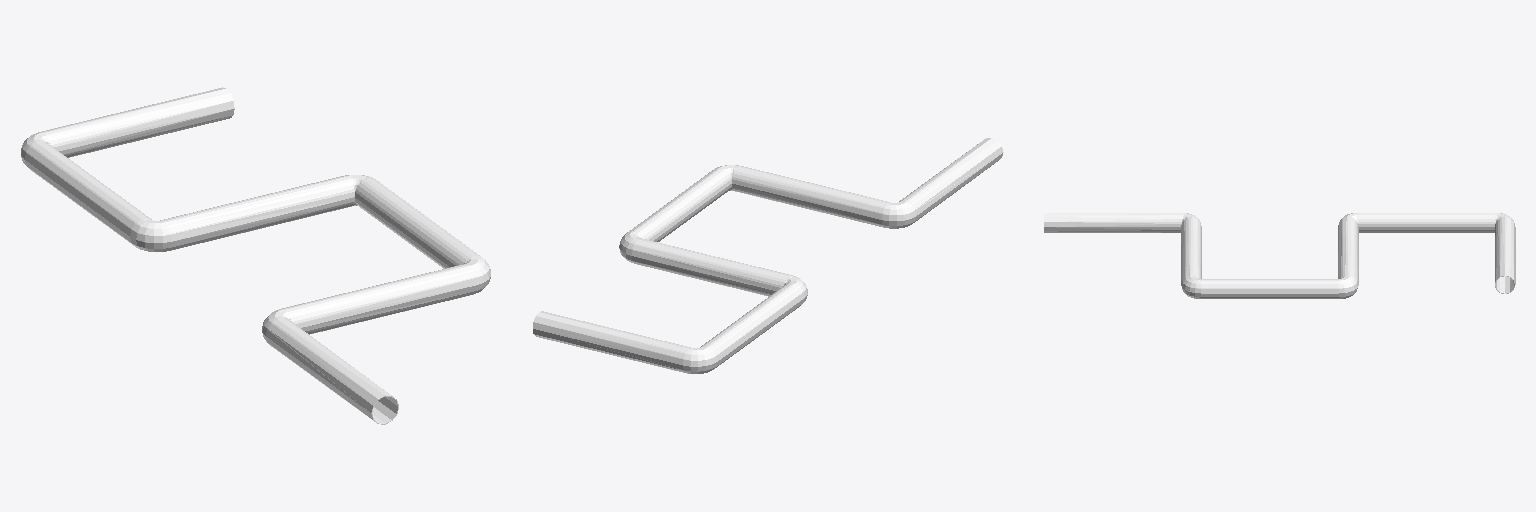
The robot description file, URDF, robot "simple_pipe_100":
<?xml version="1.0" encoding="utf-8"?>
<!-- This URDF was automatically created by SolidWorks to URDF Exporter! Originally created by [author] ([email redacted]) 
     Commit Version: 1.6.0-4-g7f85cfe  Build Version: 1.6.7995.38578
     For more information, please see http://wiki.ros.org/sw_urdf_exporter -->
<robot
  name="simple_pipe_100">
  <link
    name="pipe_link">
    <inertial>
      <origin
        xyz="0.332214887792576 -2.71581548361155E-08 -0.641"
        rpy="0 0 0" />
      <mass
        value="5.79569422015422" />
      <inertia
        ixx="2.77135646419146"
        ixy="1.33030735405763E-07"
        ixz="0.0325820980403746"
        iyy="3.35198313859861"
        iyz="4.93066213968307E-08"
        izz="0.59601151657341" />
    </inertial>
    <visual>
      <origin
        xyz="0.332214887792576 -2.71581548361155E-08 -0.641"
        rpy="0 0 0" />
      <geometry>
        <mesh
          filename="package://pir-b-001/meshes/pipe_link.STL" />
      </geometry>
      <material
        name="">
        <color
          rgba="1 1 1 1" />
      </material>
    </visual>
    <collision>
      <origin
        xyz="0.332214887792576 -2.71581548361155E-08 -0.641"
        rpy="0 0 0" />
      <geometry>
        <mesh
          filename="package://pir-b-001/meshes/pipe_link.STL" />
      </geometry>
    </collision>
  </link>

  <gazebo>
    <static>true</static>
  </gazebo>
  <gazebo reference="pipe_link">
    <material>Gazebo/BlueTransparent</material>
  </gazebo>

</robot>

--- What the picture shows (computed from the rendered views, not written in the file) ---
The picture shows the robot from 3 angles, left to right: view 1: azimuth 30°, elevation 25°; view 2: azimuth 150°, elevation 25°; view 3: azimuth 270°, elevation 25°; orthographic projection.
Model simple_pipe_100 with 1 links and 0 joints (none), rooted at pipe_link, posed all joints at 0.
Visible links, largest first — view 1: pipe_link; view 2: pipe_link; view 3: pipe_link.
Boxes of the visible links, x1,y1,x2,y2 form: pipe_link: (21,87,490,424); pipe_link: (533,138,1003,373); pipe_link: (1044,213,1515,298).
Size in the robot's own frame: 0.906 by 2.4 by 0.106 metres.
Meshes: 1 distinct files referenced, 1 mesh visuals loaded (1 binary STL).